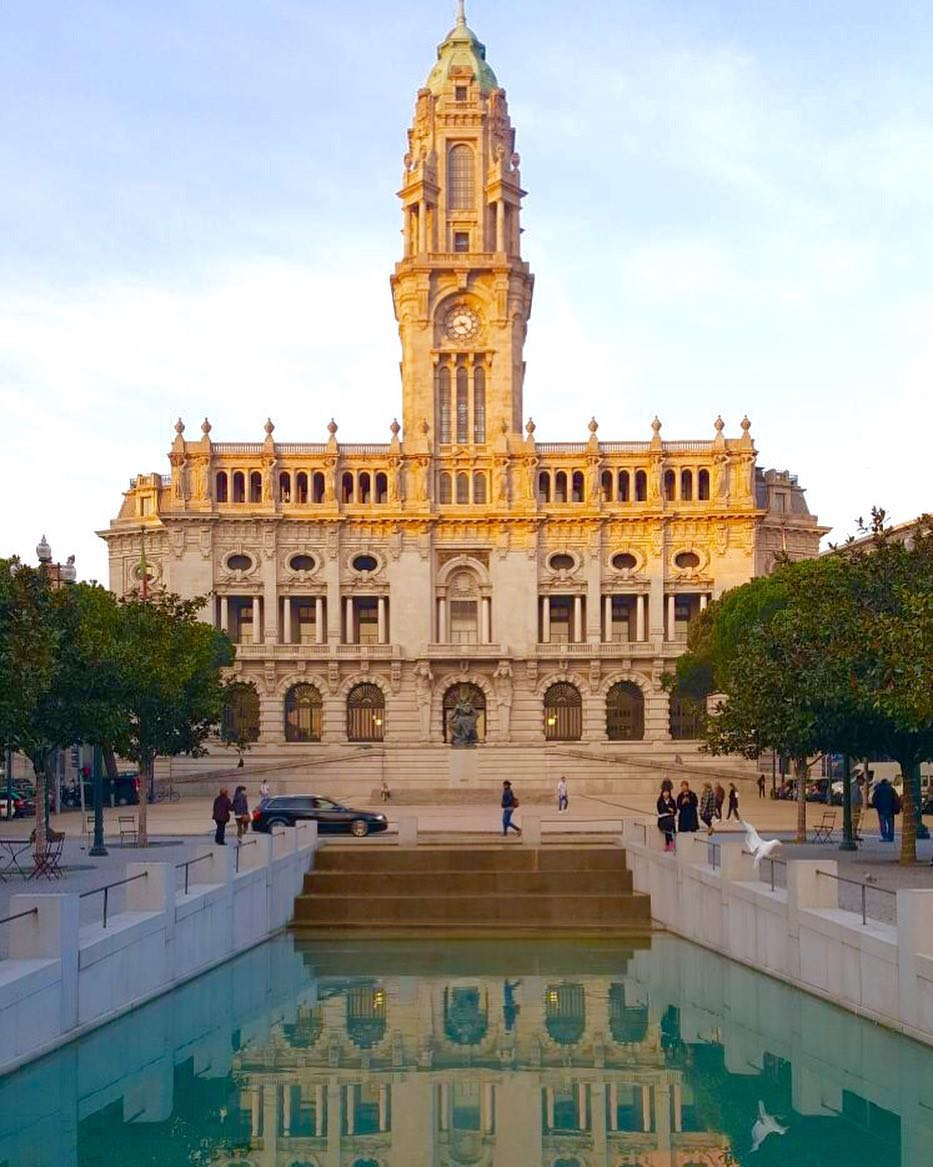camara: (93, 0, 832, 780)
